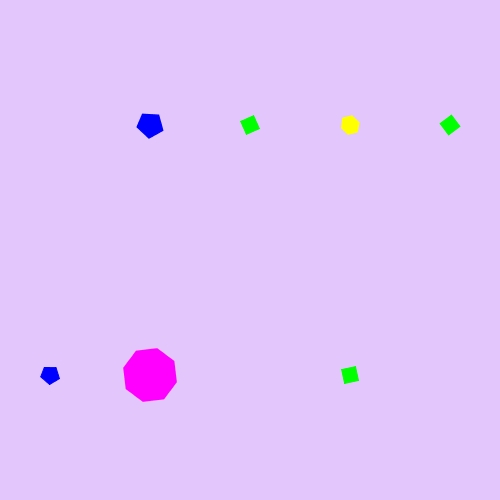hexagon: (335, 112, 365, 138)
octagon: (119, 344, 182, 407)
pentagon: (133, 108, 167, 142), (36, 361, 64, 389)
quadrilateral: (235, 110, 265, 140), (435, 110, 465, 140), (335, 360, 365, 390)
